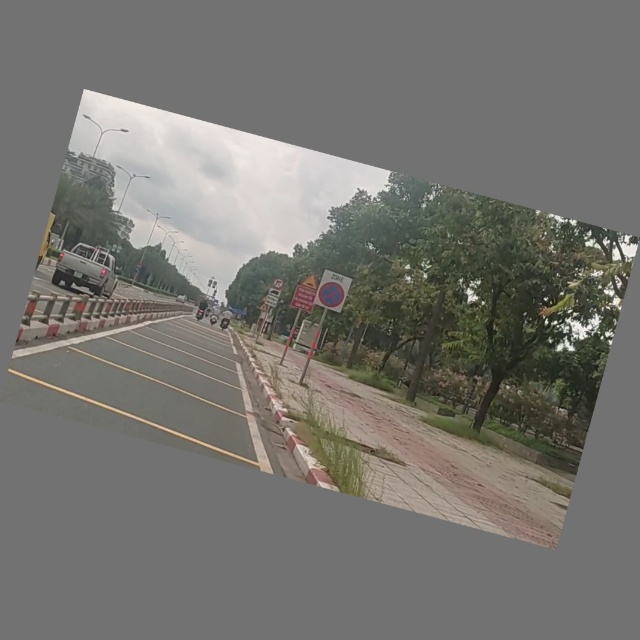P.123b: (271, 277, 285, 290)
P.130: (313, 269, 352, 314)
S.505a*Xe tai: (265, 288, 281, 309)
W.221b: (300, 272, 321, 291)
